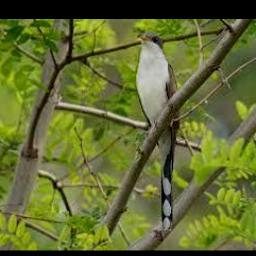Cuckoo: (135, 33, 178, 232)
